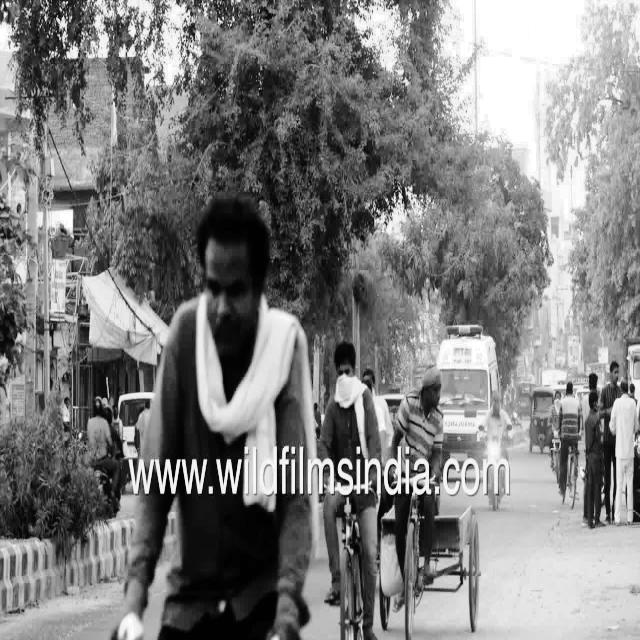Ambulance: (436, 328, 502, 459)
